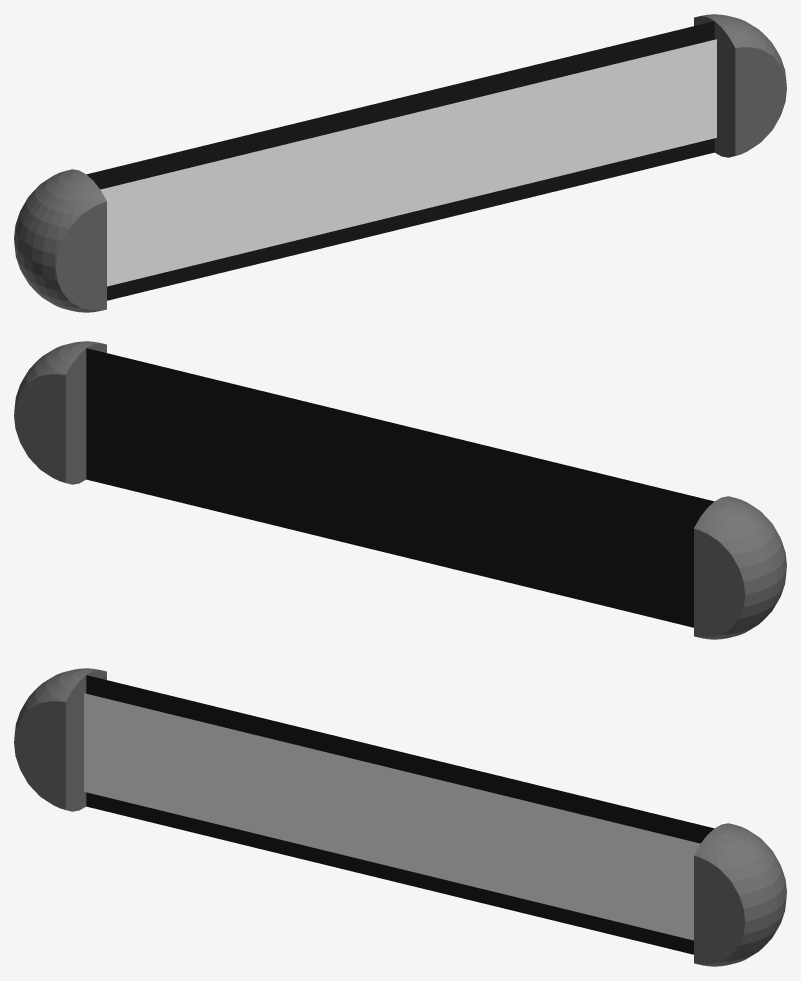
File: HPBarModel1.obj
The picture shows the model from 3 angles, top to bottom: view 1: azimuth 30°, elevation 25°; view 2: azimuth 150°, elevation 25°; view 3: azimuth 330°, elevation 25°; orthographic projection.
Parts seen in each view (by area): view 1: 平面, 平面.001, 球體, 球體.001; view 2: 平面.001, 球體, 球體.001; view 3: 平面, 平面.001, 球體.001, 球體.
Part boxes in pixels (box(x1,y1,x2,y2)): 平面: box(100, 39, 716, 286); 平面.001: box(86, 21, 714, 300); 球體: box(14, 169, 106, 312); 球體.001: box(694, 14, 786, 157); 平面.001: box(86, 348, 714, 627); 球體: box(694, 496, 786, 639); 球體.001: box(14, 341, 106, 484); 平面: box(84, 693, 700, 940); 平面.001: box(86, 675, 714, 954); 球體.001: box(694, 823, 786, 966); 球體: box(14, 668, 106, 811).
Size of the model in its own units: 1.2 by 0.2 by 0.1145.
1 material, 1 textured.
